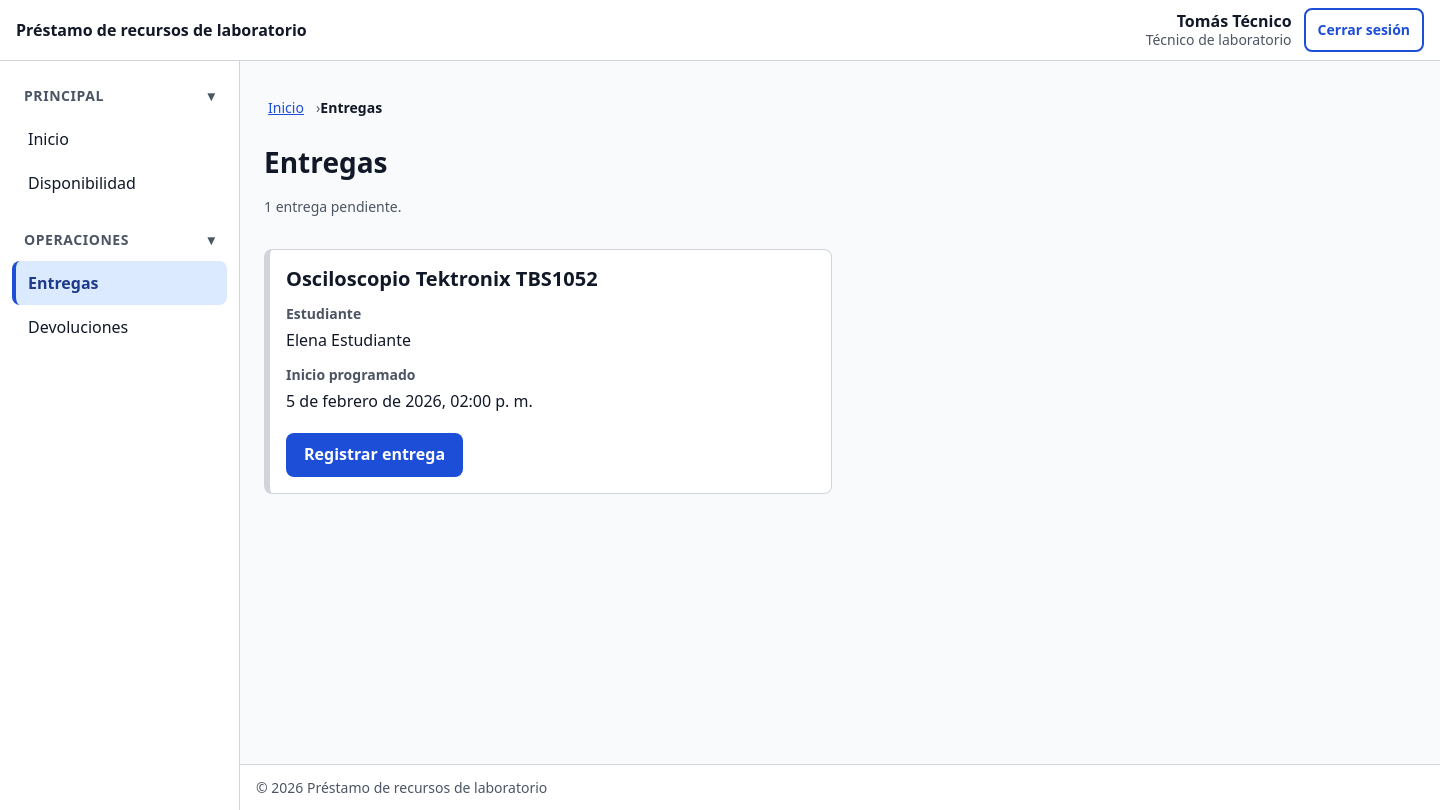
Test: entregas pendientes (Req 12) › abre un diálogo con condición "Bueno" por defecto y se cierra con Cancelar
Step 1. Click the button with aria-label "Registrar entrega:" → (375, 455), box [286, 433, 463, 477]
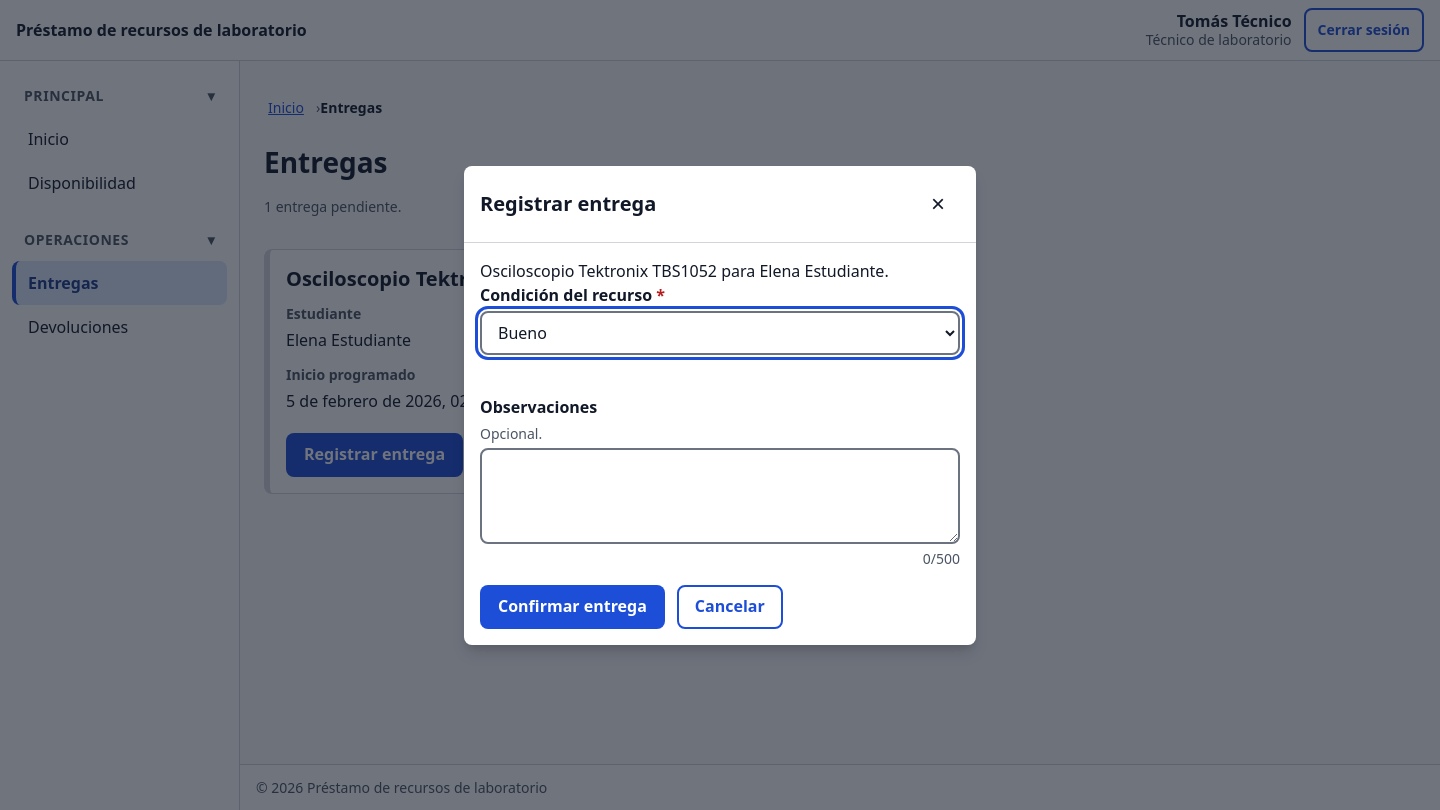
Expected: the dropdown labelled "Condición del recurso *" shows "Bueno", [480, 310, 960, 354]
Step 2. Click the button "Cancelar" → (730, 606), box [677, 584, 783, 628]
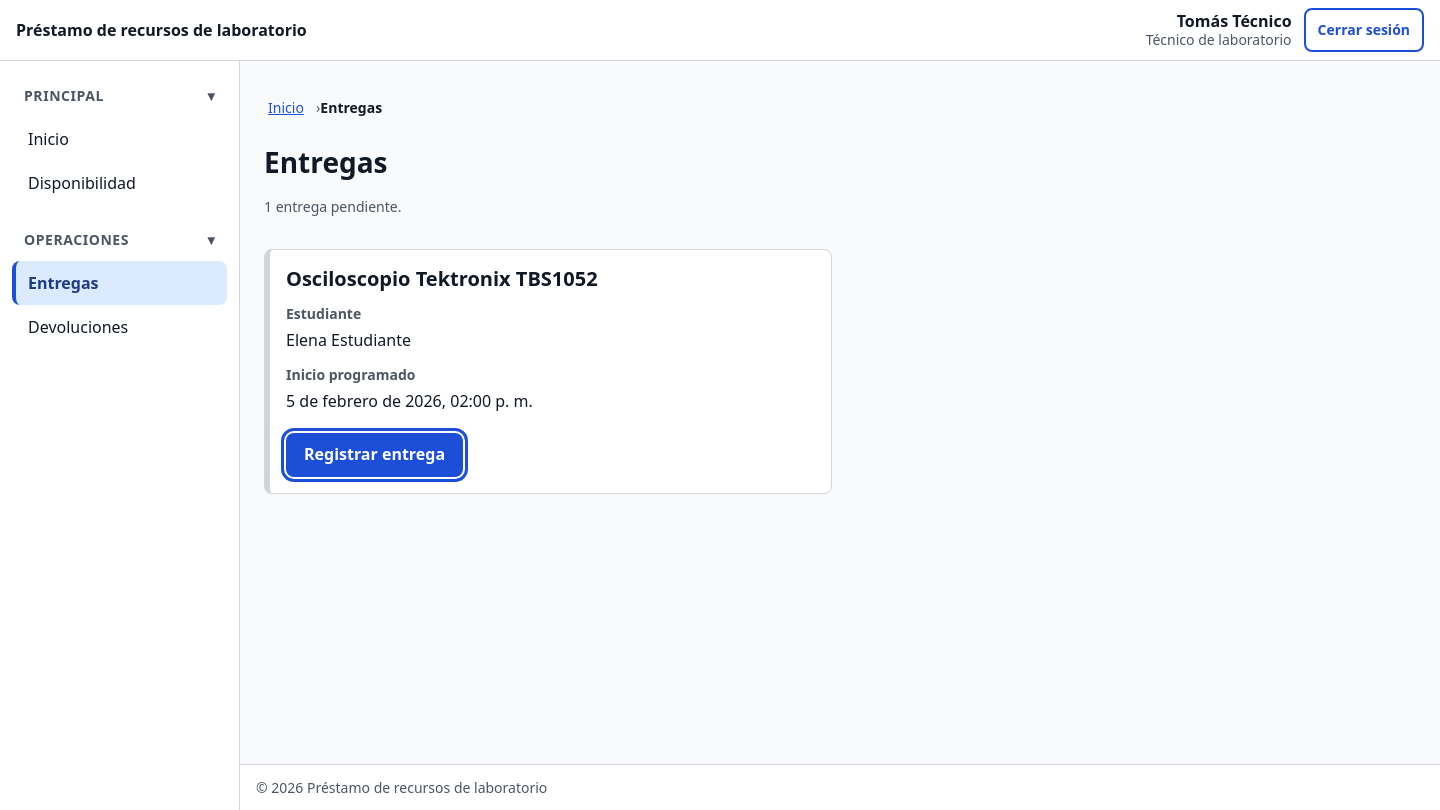
Expected: the dialog is gone
